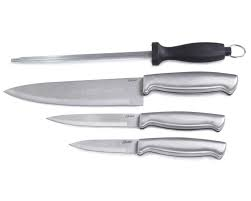kuchillu: (6, 71, 241, 104), (42, 108, 230, 134)
